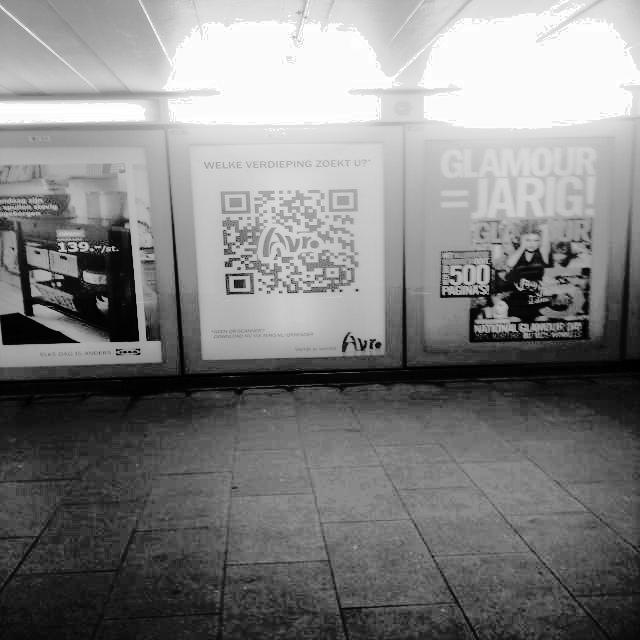qr_code: (221, 189, 360, 295)
